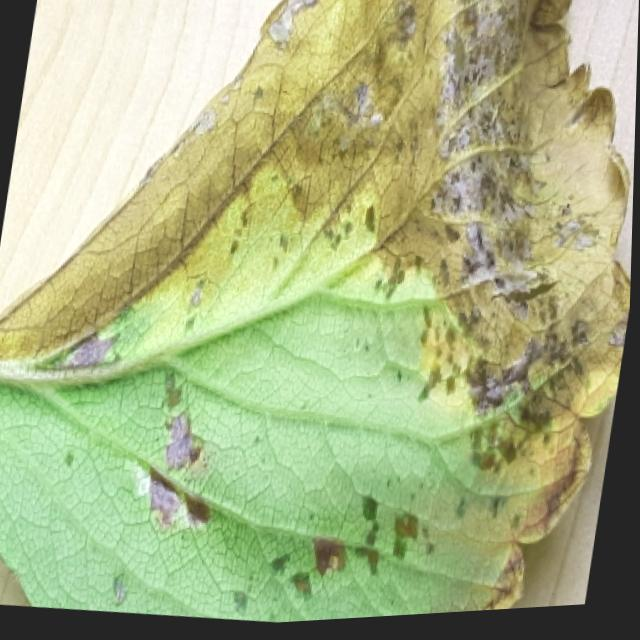Angular Leafspot: (0, 0, 634, 626)
